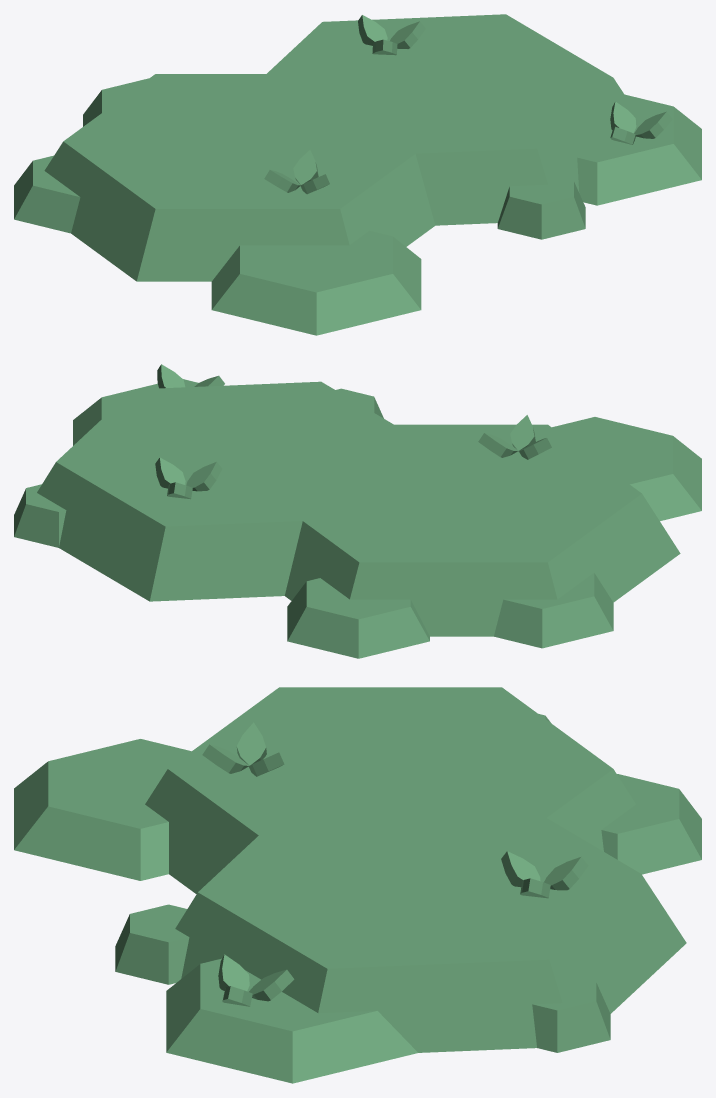
The model's file is rock-flat-grass.obj.
3 views of the same model, one above another, from view 1: azimuth 30°, elevation 25°; view 2: azimuth 150°, elevation 25°; view 3: azimuth 270°, elevation 25° (orthographic). The views are drawn at different scales.
Bounding box in the file's own units: 1.79 × 0.2258 × 1.45.
